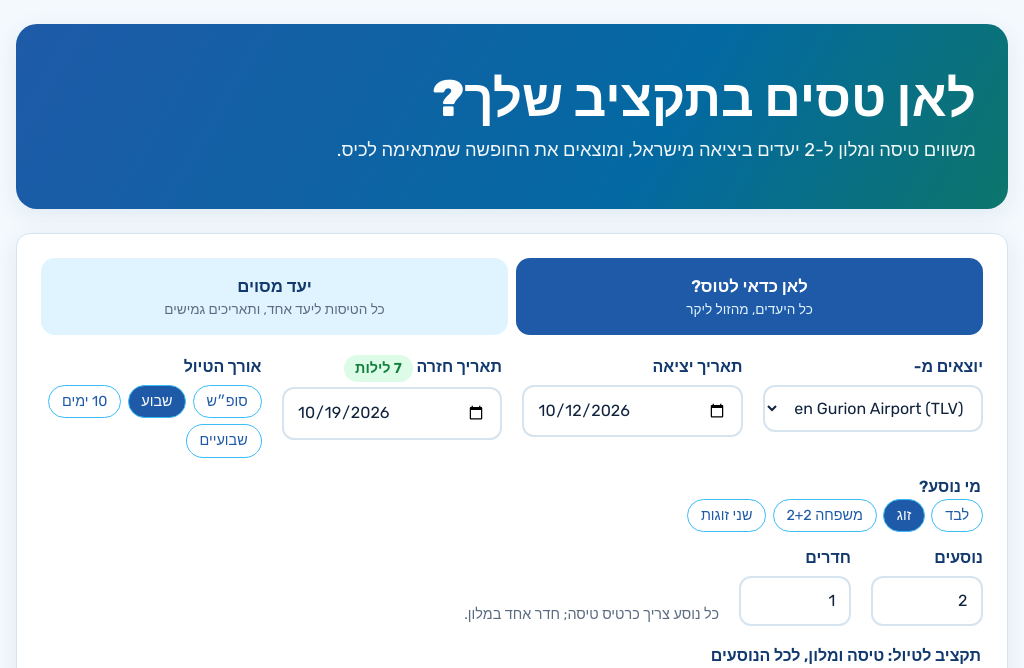
Test: more people than a room for two says the hotel price may be low
Step 1. Type "2026-11-07" into the date field labelled "תאריך יציאה" → (632, 411), box [522,385,742,437]
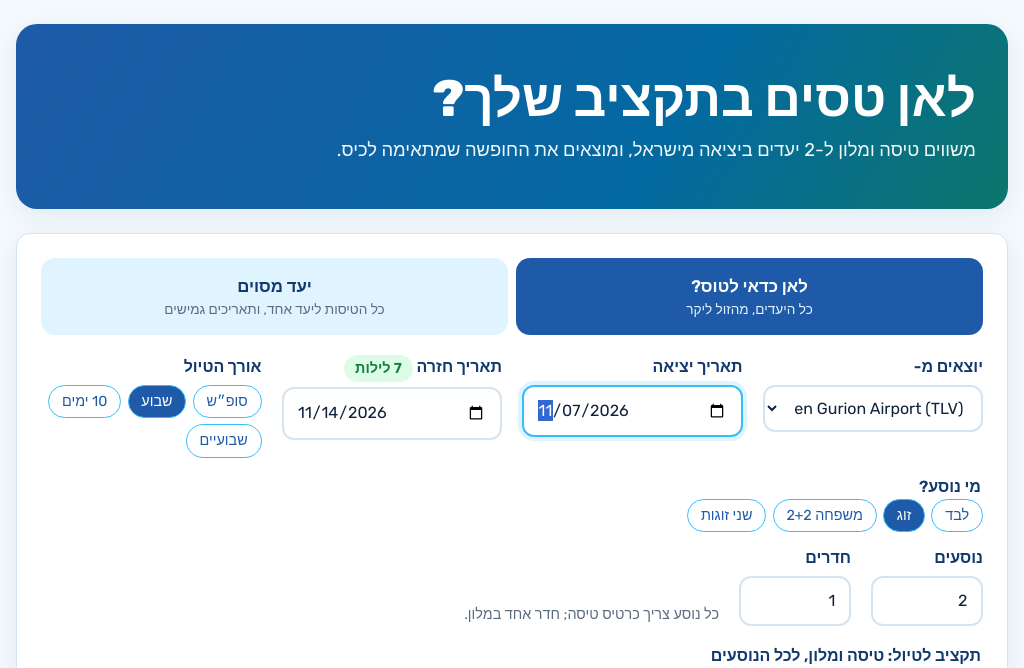
Step 2. Clear the date field labelled "תאריך חזרה 7 לילות" → (392, 413), box [282,387,502,440]
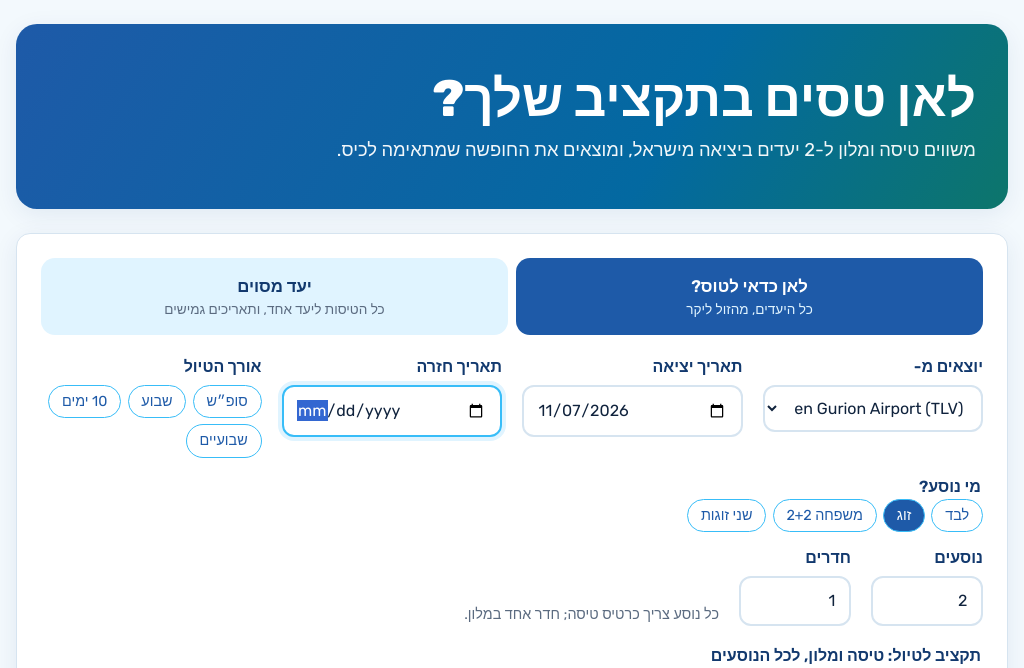
Step 3. Type "2026-11-14" into the date field labelled "תאריך חזרה" → (392, 411), box [282,385,502,437]
(page scrolled)
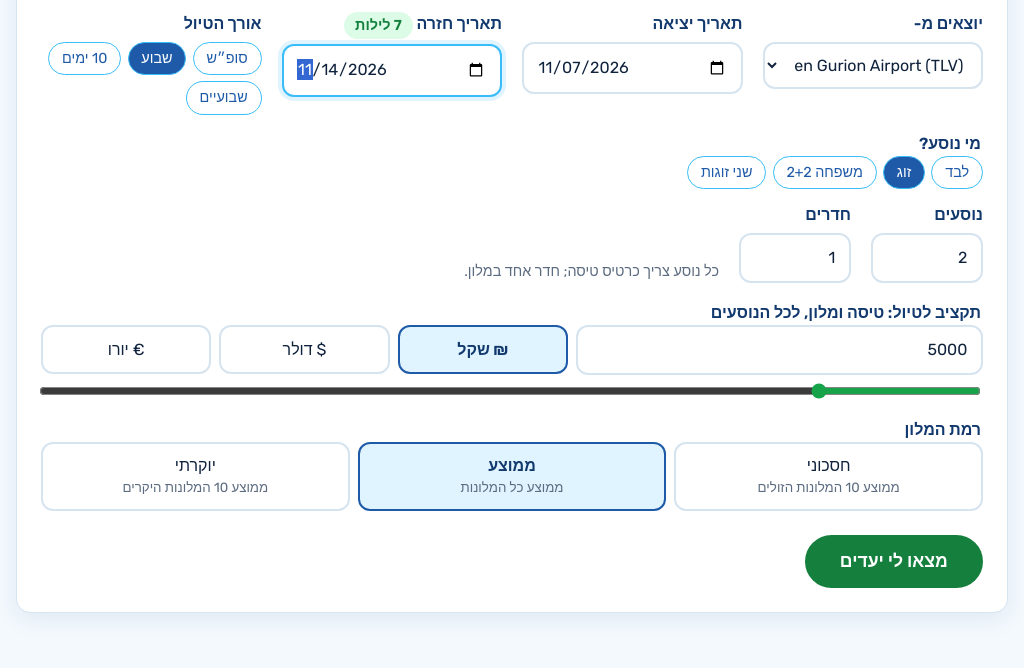
Step 4. Replace the text in the number field named "תקציב" with "8000" → (780, 350), box [576,324,983,375]
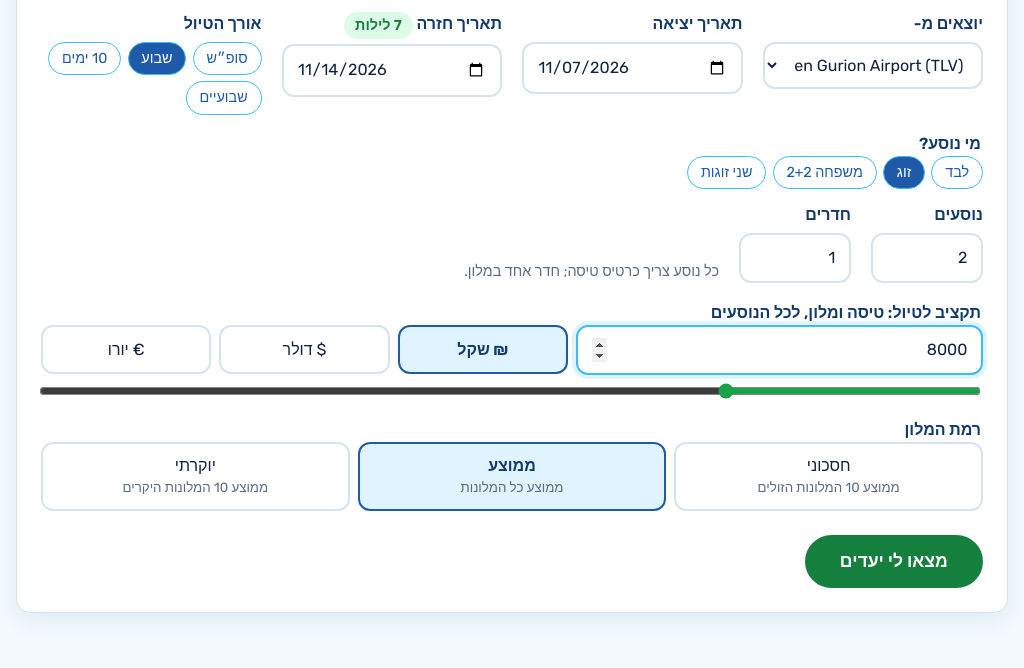
Step 5. Click the button "משפחה 2+2" → click(825, 173), box [773,156,877,189]
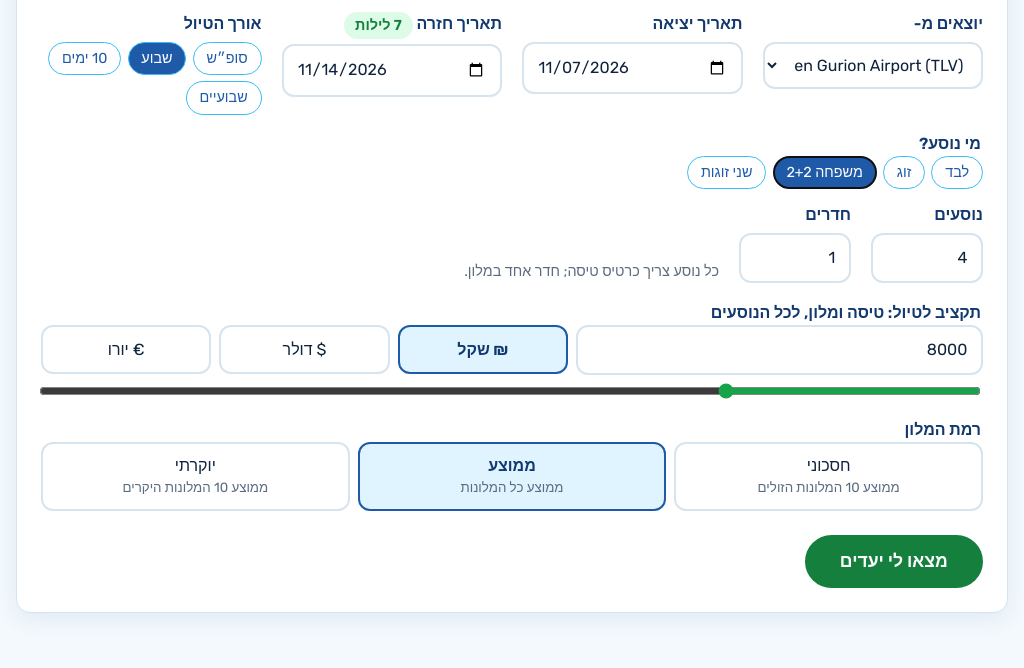
Step 6. Click the button "מצאו לי יעדים" → click(894, 562), box [805,535,983,588]
(page scrolled)
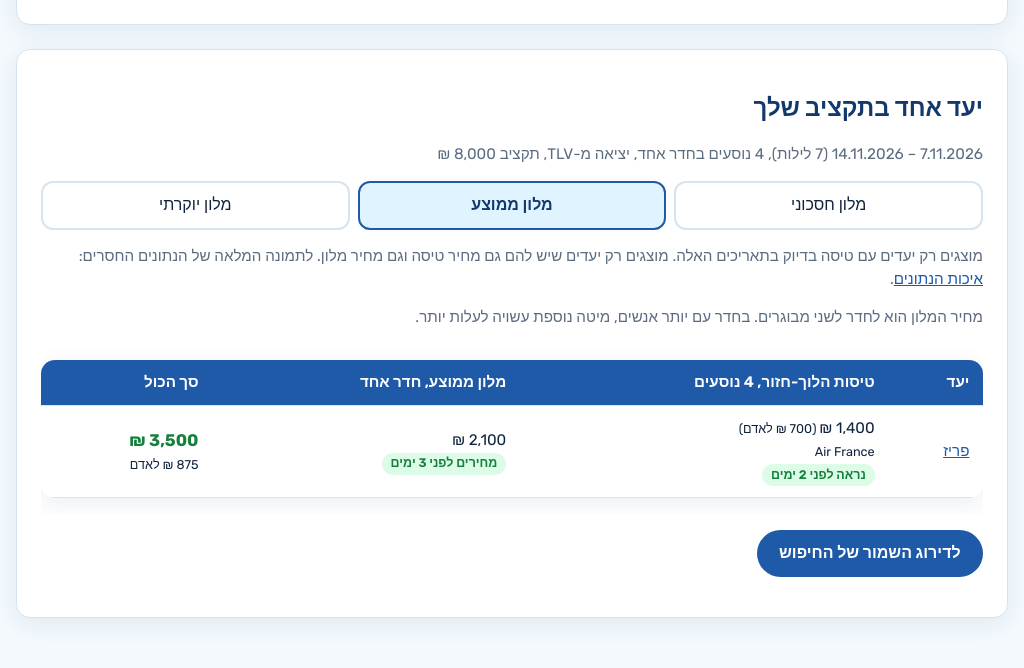
Expected: the text "מחיר המלון הוא לחדר לשני מבוגרים" is shown, [415,308,983,326]
